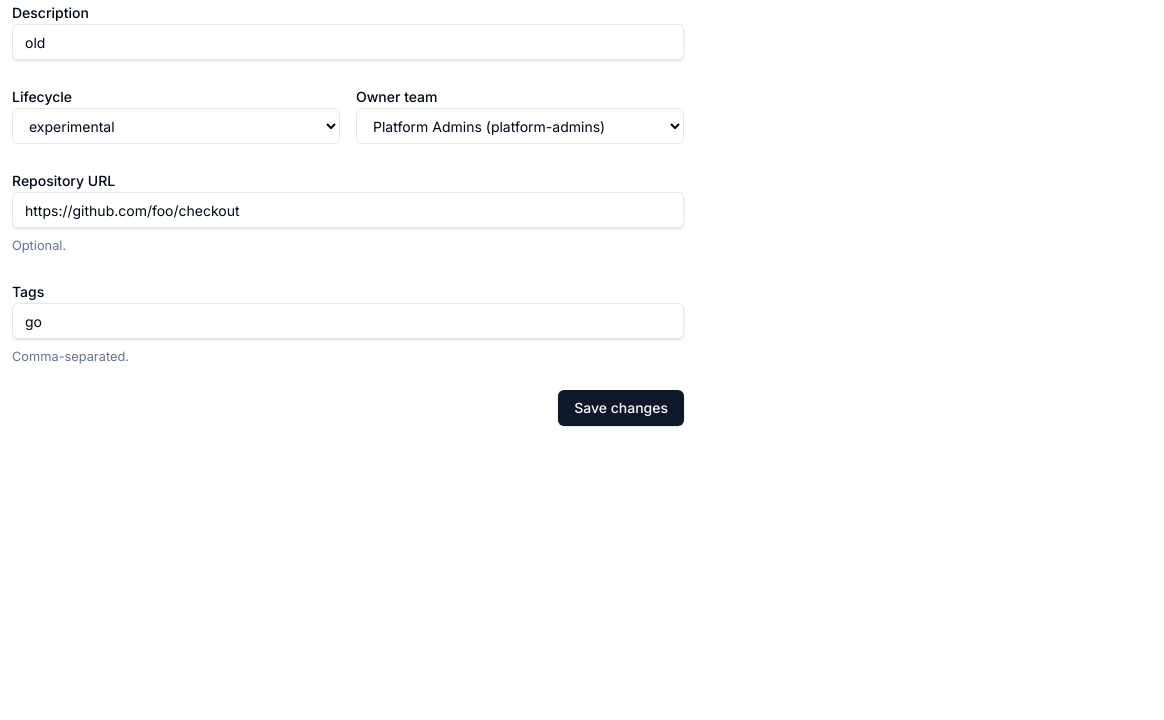
Test: ServiceEditForm › shows toast on PATCH error
The width and height of the screenshot is (1164, 720).
Click the button "Save changes": (621, 408) x1=558 y1=390 x2=684 y2=426
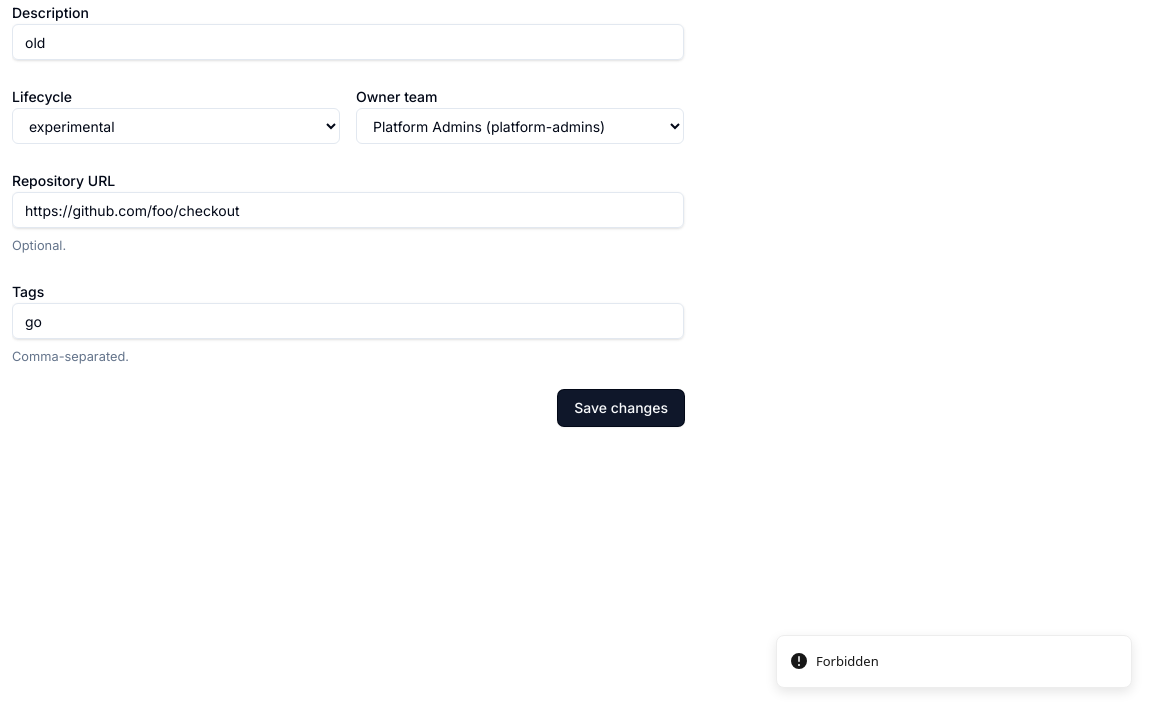
Check: the text "Forbidden" is shown, box x1=816 y1=652 x2=879 y2=671
